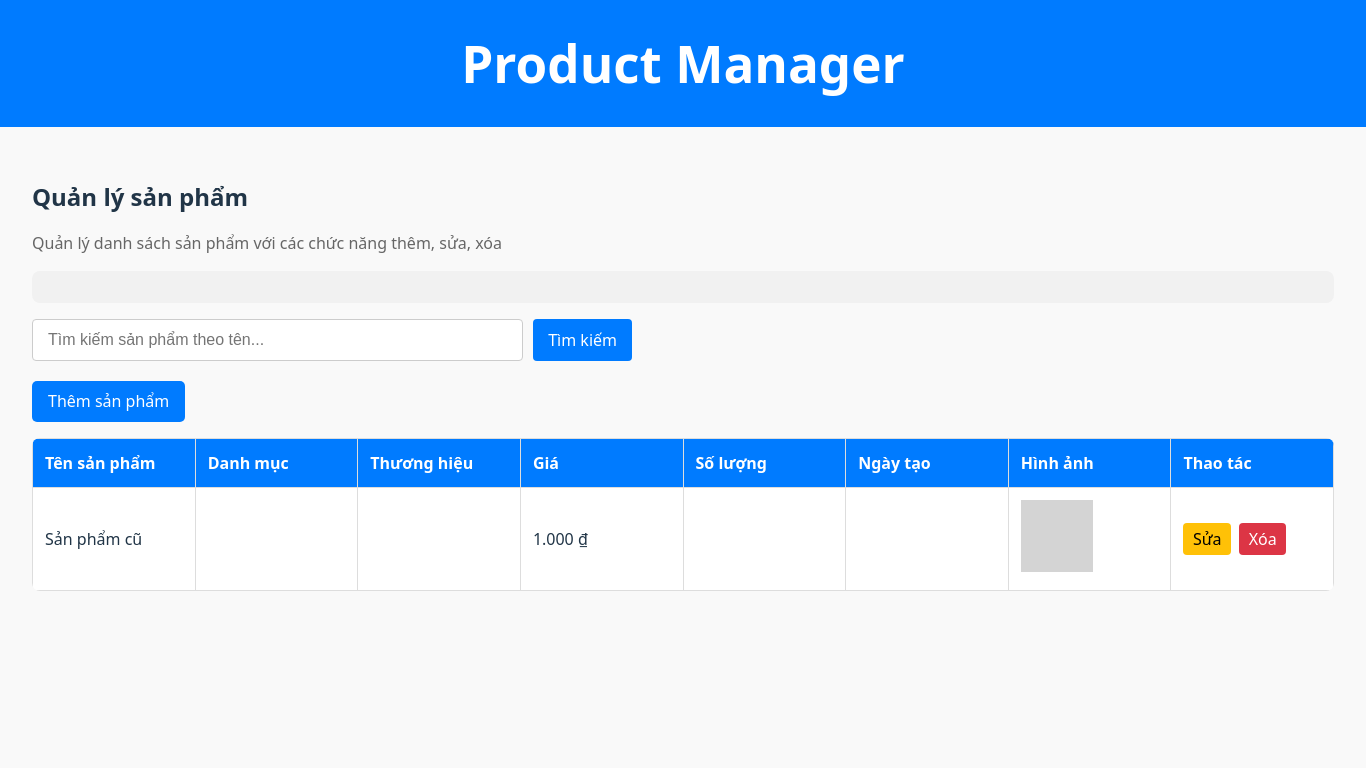
ProductDashboard Form Integration Test › Tao san pham moi thanh cong
Expected: the text "Sản phẩm cũ" is shown, [32,488,195,590]
Step 1. Click the button "Thêm sản phẩm" → (109, 401), box [32,381,185,422]
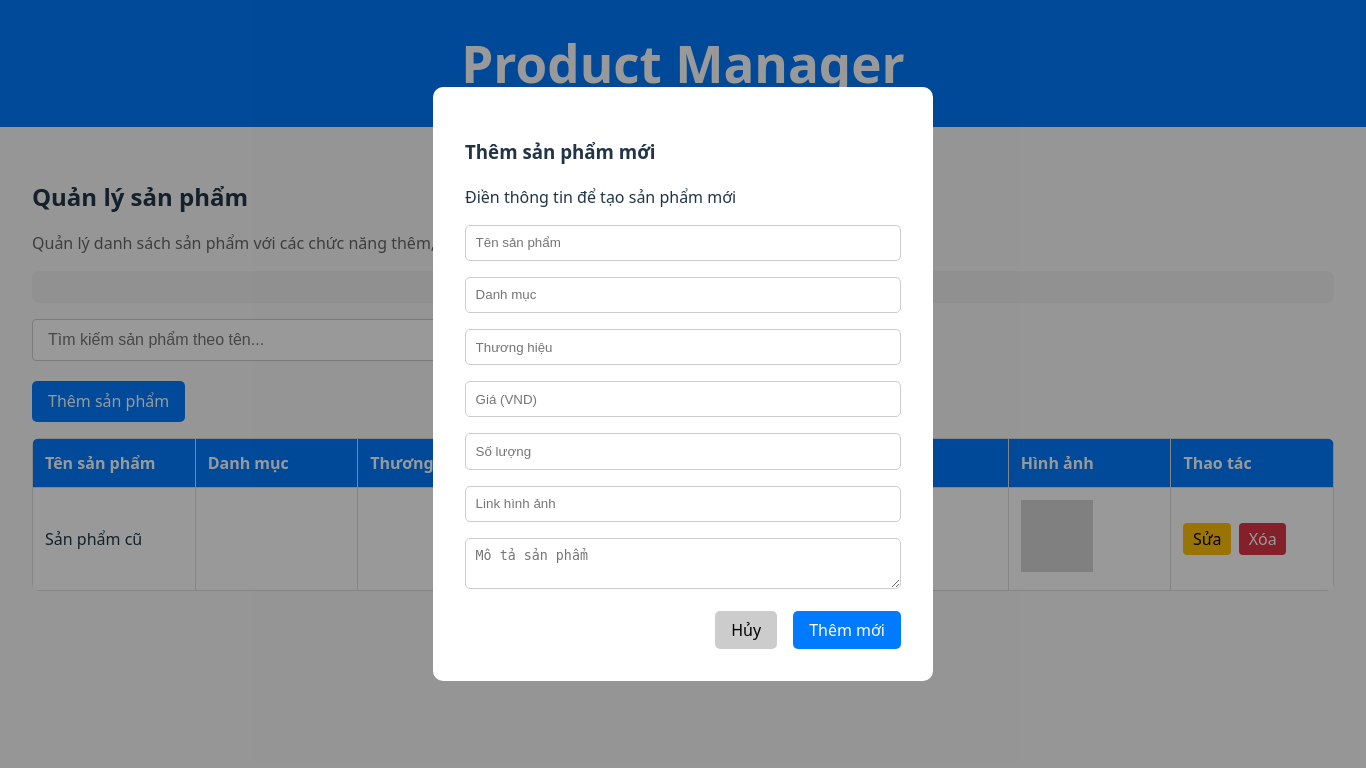
Step 2. Type "Laptop Dell" into the field with placeholder "Tên sản phẩm" → (683, 243), box [465,225,901,261]
Step 3. Type "Laptop" into the field with placeholder "Danh mục" → (683, 295), box [465,277,901,313]
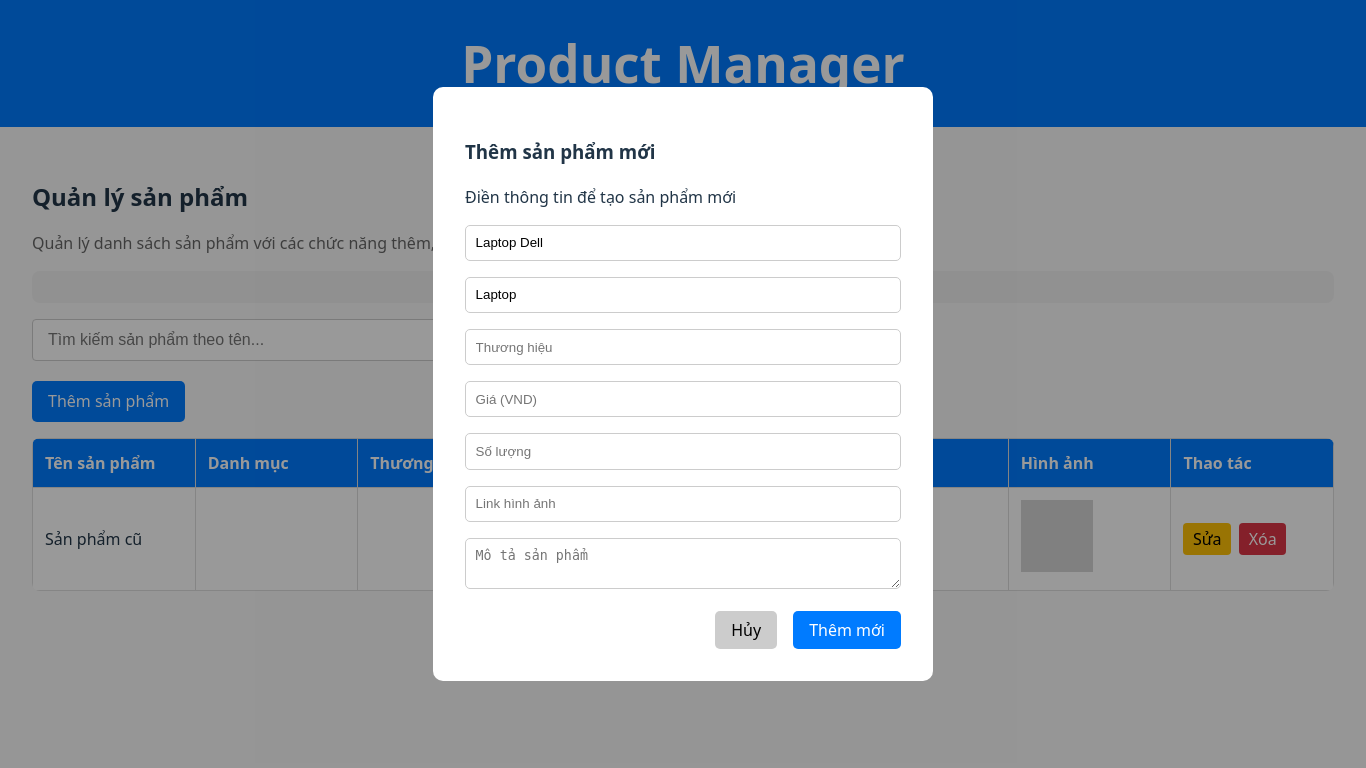
Step 4. Type "15000000" into the number field with placeholder "Giá (VND)" → (683, 399), box [465,381,901,417]
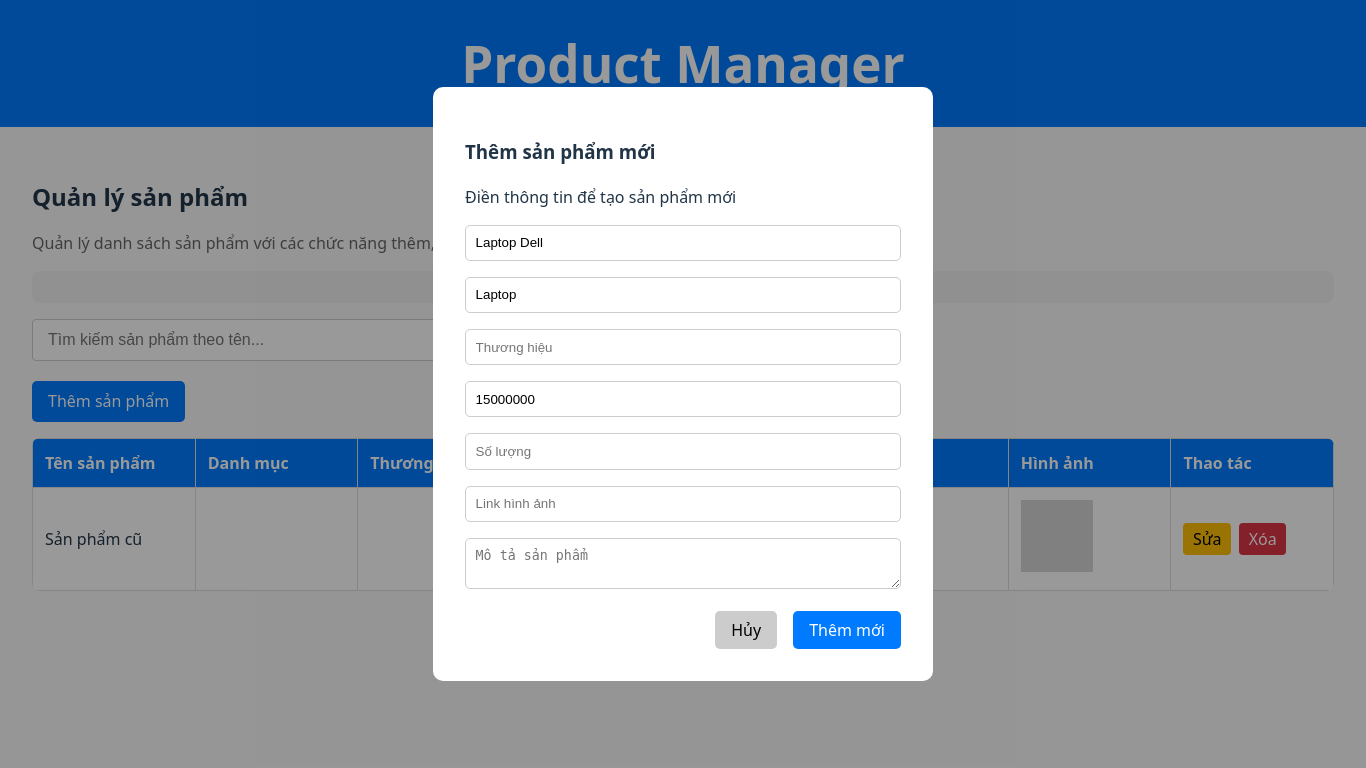
Step 5. Type "10" into the number field with placeholder "Số lượng" → (683, 451), box [465,433,901,470]
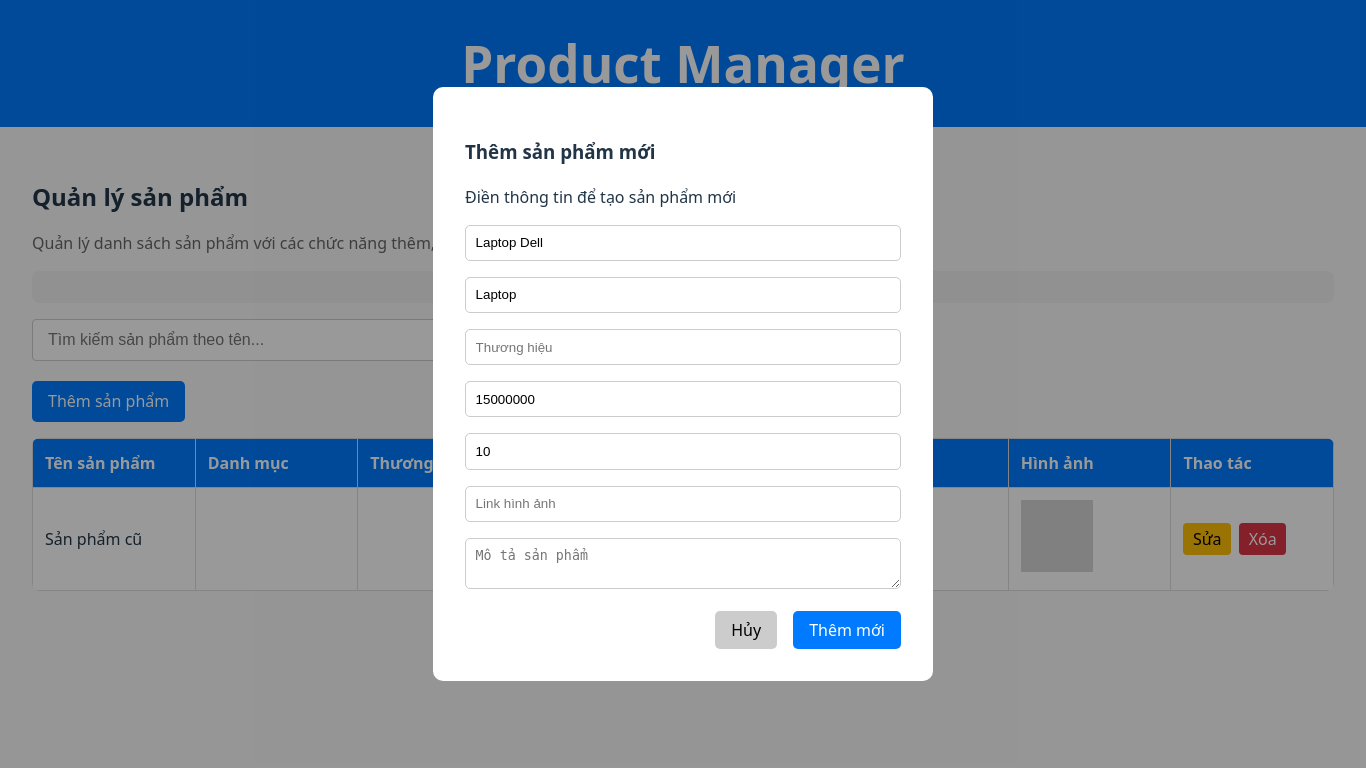
Step 6. Type "Một chiếc laptop mới" into the text box with placeholder "Mô tả sản phẩm" → (683, 563), box [465,538,901,589]
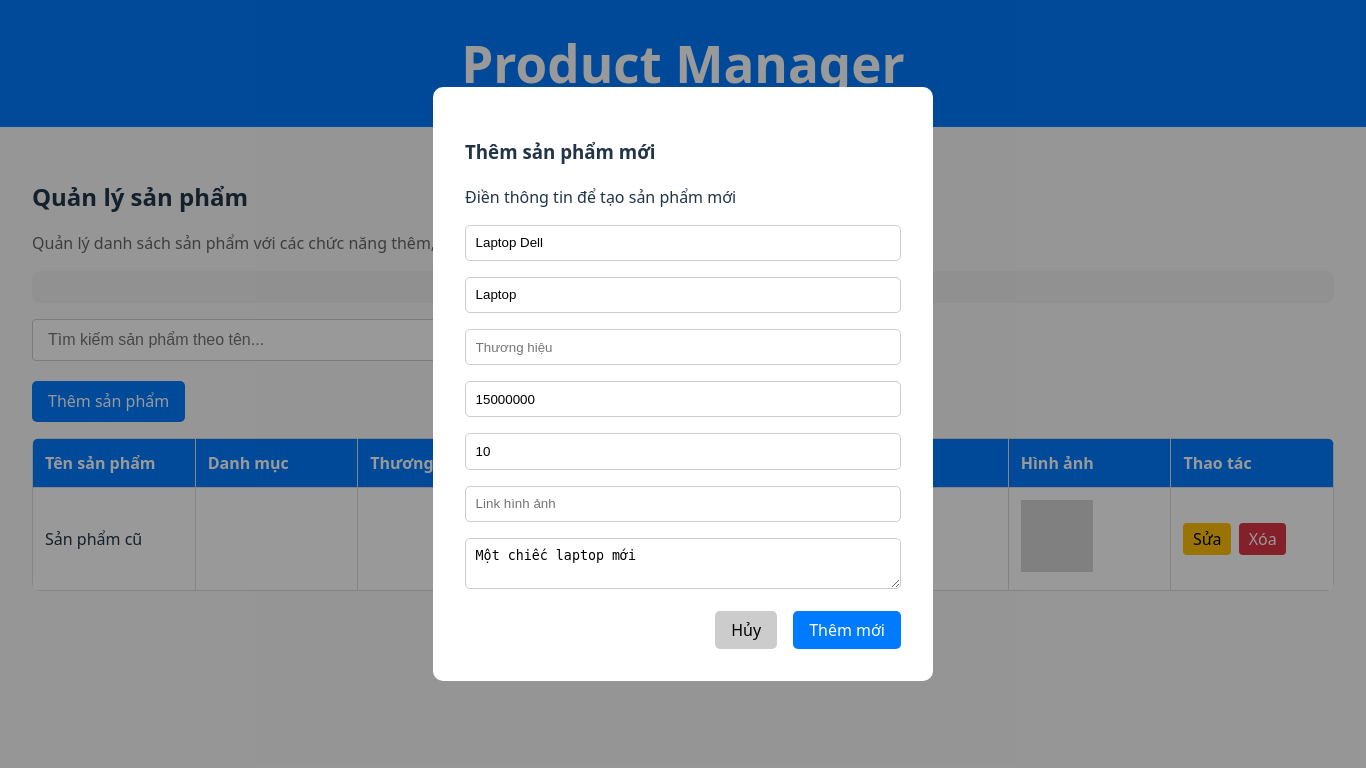
Step 7. Click the button "Thêm mới" → (847, 630), box [793,611,901,649]
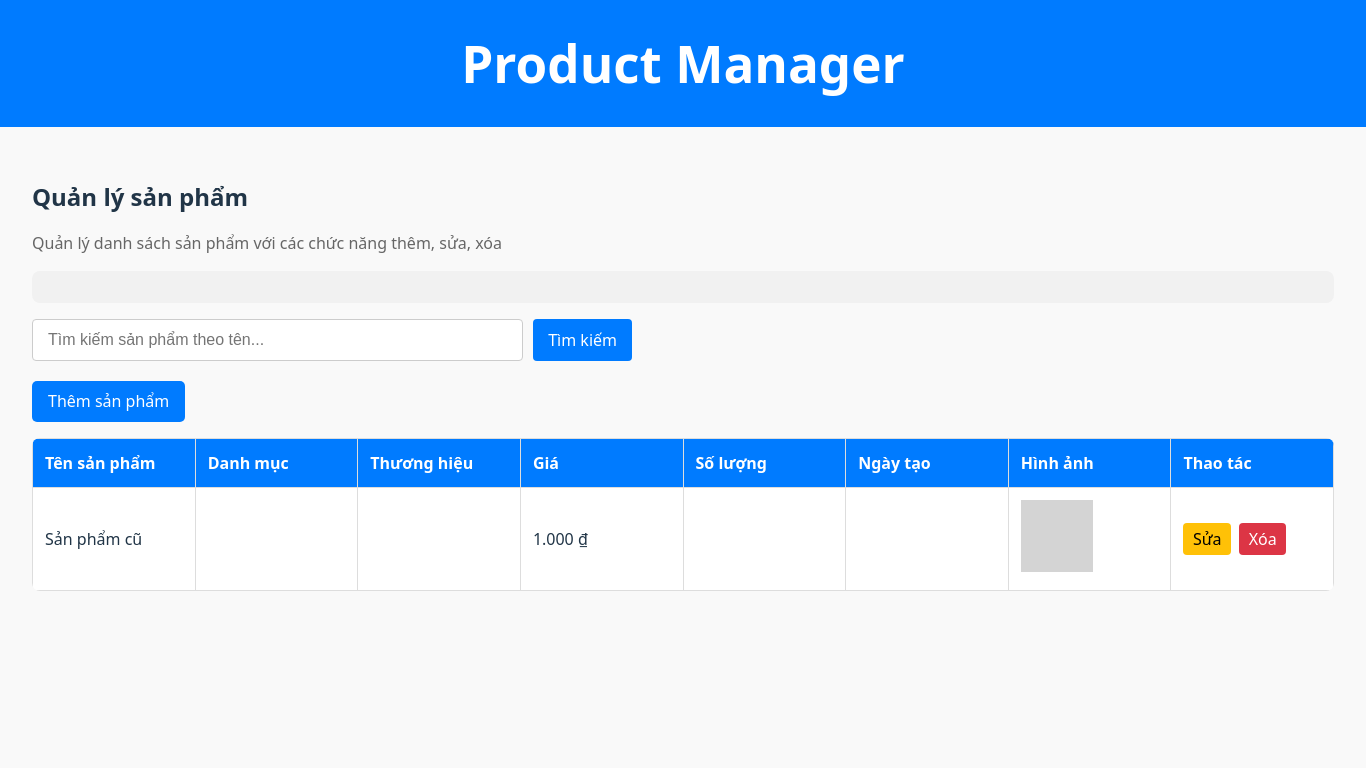
Expected: the button "Thêm mới" is gone
